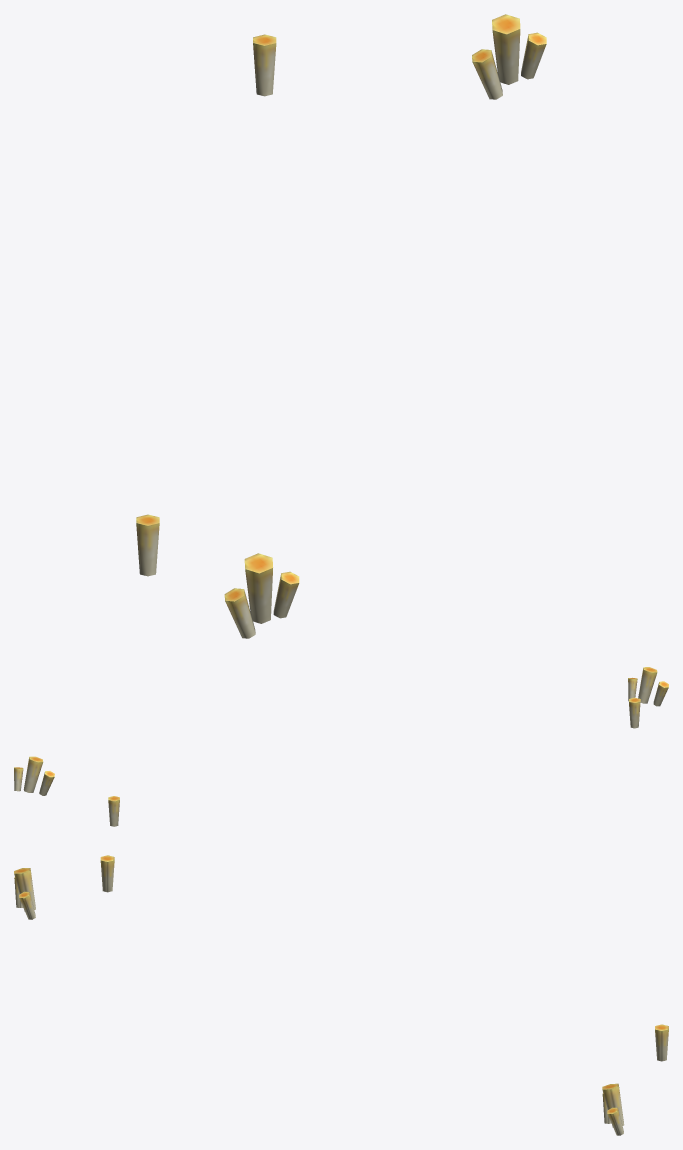
File: Area06_7.fbx
3 renders of one model, top to bottom at view 1: azimuth 30°, elevation 25°; view 2: azimuth 150°, elevation 25°; view 3: azimuth 270°, elevation 25°, orthographic. The views are drawn at different scales.
Visible parts, largest first — view 1: Area06_7; view 2: Area06_7; view 3: Area06_7.
Boxes of the visible parts, x1=… form: Area06_7: x1=136, y1=14, x2=546, y2=638; Area06_7: x1=14, y1=667, x2=668, y2=826; Area06_7: x1=14, y1=855, x2=668, y2=1135.
Bounding box in the file's own units: 576 × 48.18 × 655.
